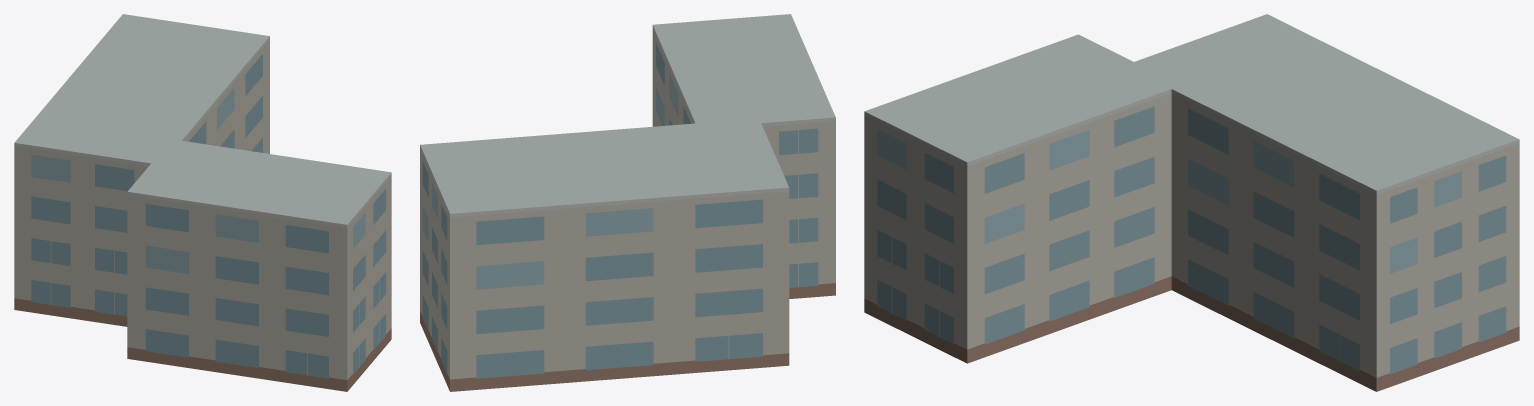
File: residential-17c19ed0-7c72-4d89-87a6-c31823d67046.glb
3 views of the same model, side by side, from view 1: azimuth 30°, elevation 25°; view 2: azimuth 150°, elevation 25°; view 3: azimuth 270°, elevation 25° (orthographic). The views are drawn at different scales.
Visible parts, largest first — view 1: residential-17c19ed0-7c72-4d89-87a6-c31823d67046.tmp; view 2: residential-17c19ed0-7c72-4d89-87a6-c31823d67046.tmp; view 3: residential-17c19ed0-7c72-4d89-87a6-c31823d67046.tmp.
Boxes of the visible parts, bbox=[...] form: residential-17c19ed0-7c72-4d89-87a6-c31823d67046.tmp: bbox=[14, 14, 391, 391]; residential-17c19ed0-7c72-4d89-87a6-c31823d67046.tmp: bbox=[420, 14, 835, 391]; residential-17c19ed0-7c72-4d89-87a6-c31823d67046.tmp: bbox=[864, 14, 1519, 391].
Size of the model in its own units: 23 by 12.2 by 36.02.
